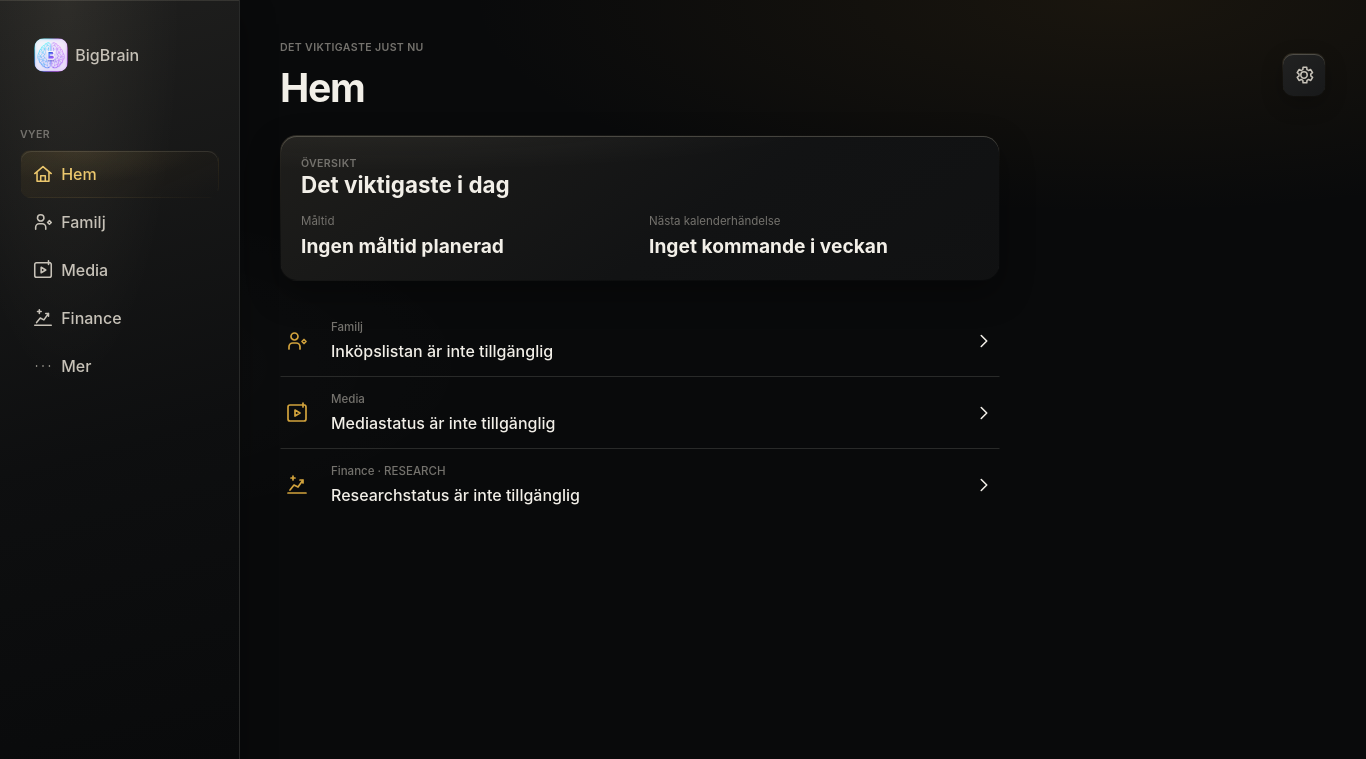
switches dashboard without reload and remembers the active view
Click the button "Media".
click(120, 270)  # box [20, 246, 219, 294]
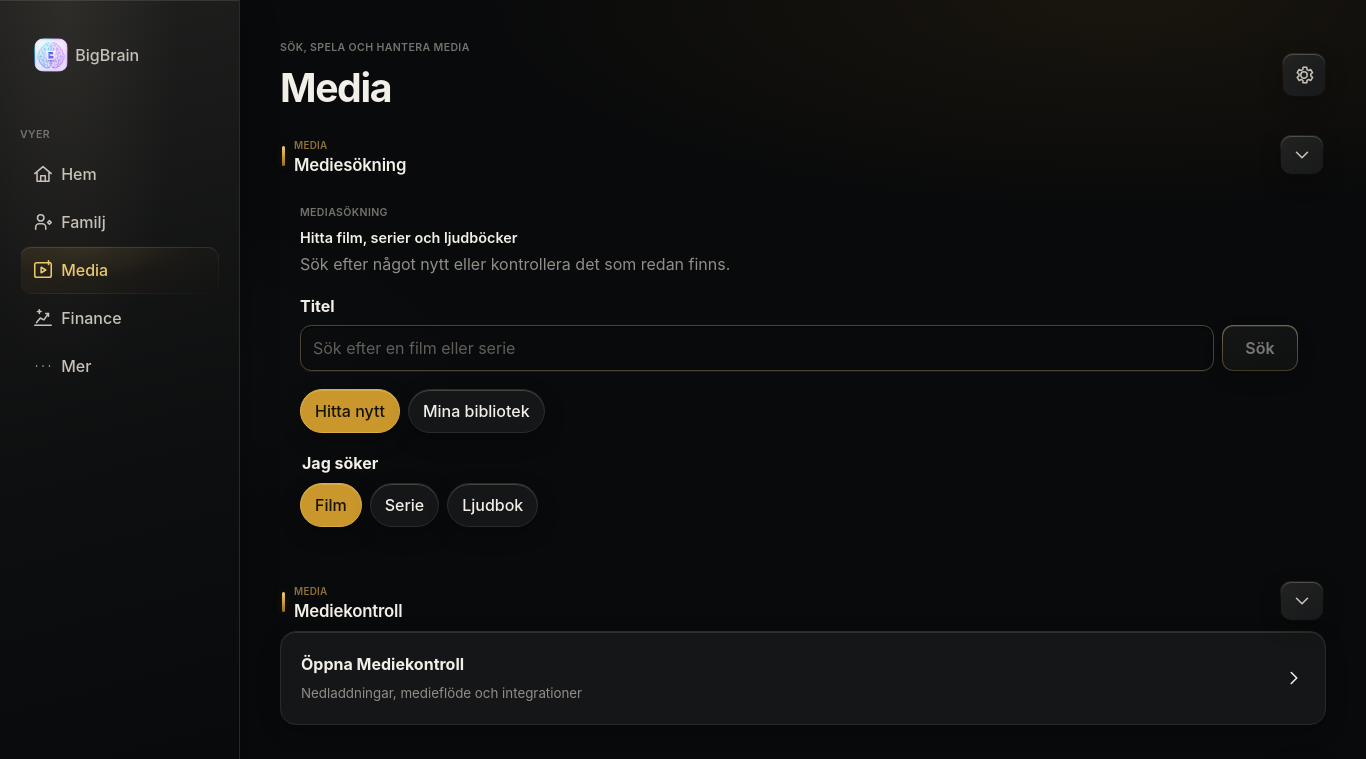
Expected: the heading "Media" is shown, [280, 64, 391, 111]
Expected: the heading "Mediesökning" is shown, [294, 155, 406, 175]
